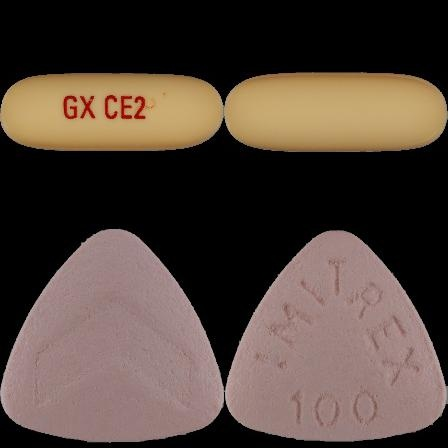54868-5114: (0, 0, 224, 224)
